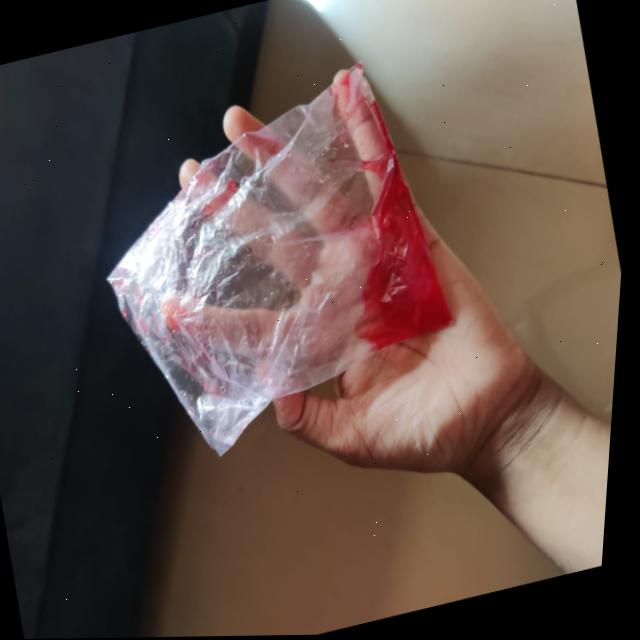Dry: (56, 40, 482, 498)
